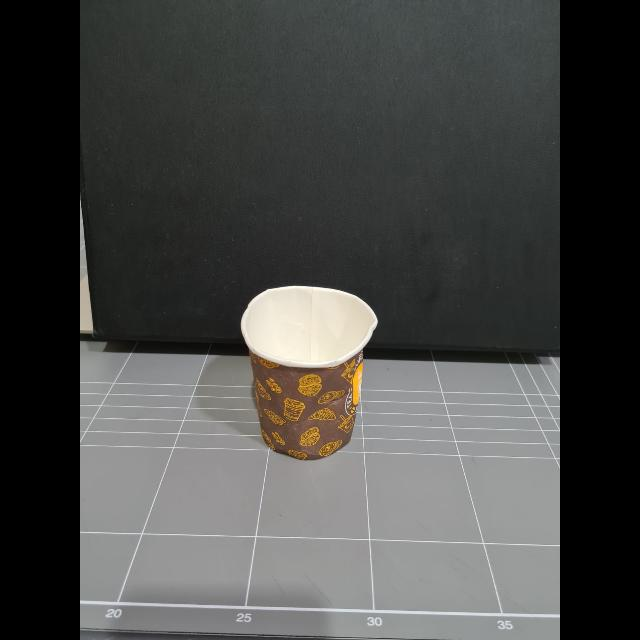trash: (239, 282, 381, 462)
